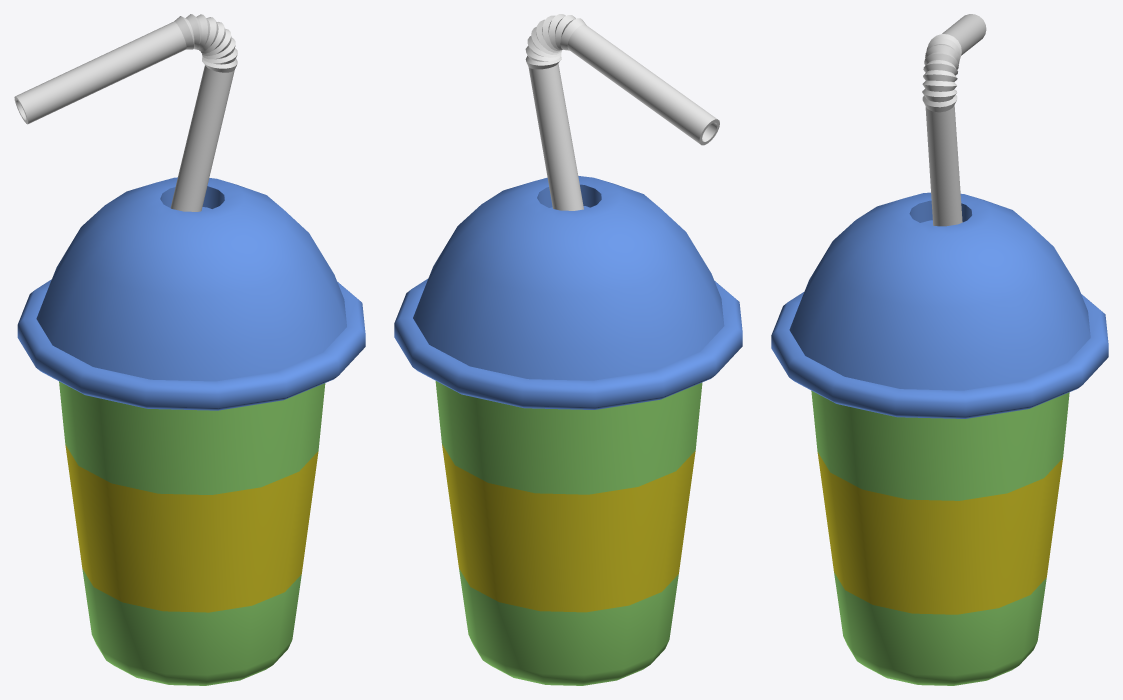
Rendered from straw1.fbx.
3 renders of one model, left to right at view 1: azimuth 30°, elevation 25°; view 2: azimuth 150°, elevation 25°; view 3: azimuth 270°, elevation 25°, orthographic. The views are drawn at different scales.
Parts seen in each view (by area): view 1: Circle.009; view 2: Circle.009; view 3: Circle.009.
Boxes of the visible parts, x1,y1,x2,y2 form: Circle.009: (14,14,365,685); Circle.009: (394,14,742,685); Circle.009: (771,14,1108,685).
Bounding box in the file's own units: 0.9147 × 1.79 × 0.8885.
